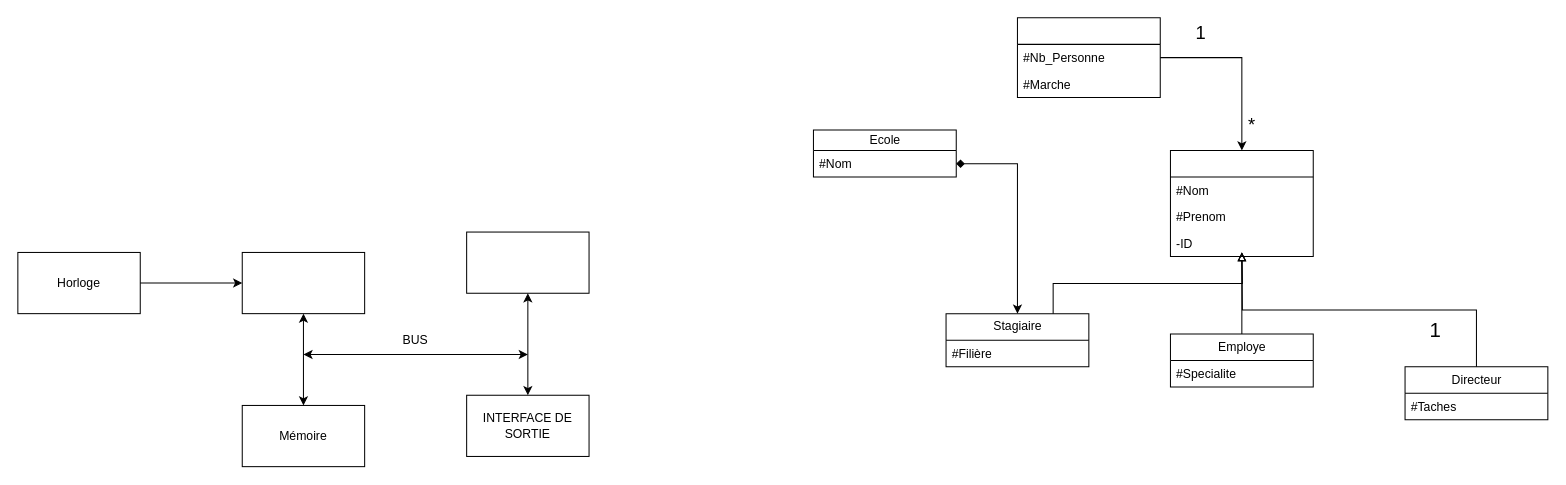
Some shapes in this 1566 by 485 pixel diagram are drawn without their labels. Each missing label, with the box of its shape:
CPU: (241, 251, 365, 314)
Entreprise: (1016, 17, 1160, 97)
INTERFACE D'ENTREE: (466, 231, 589, 293)
Personne: (1169, 149, 1313, 257)
